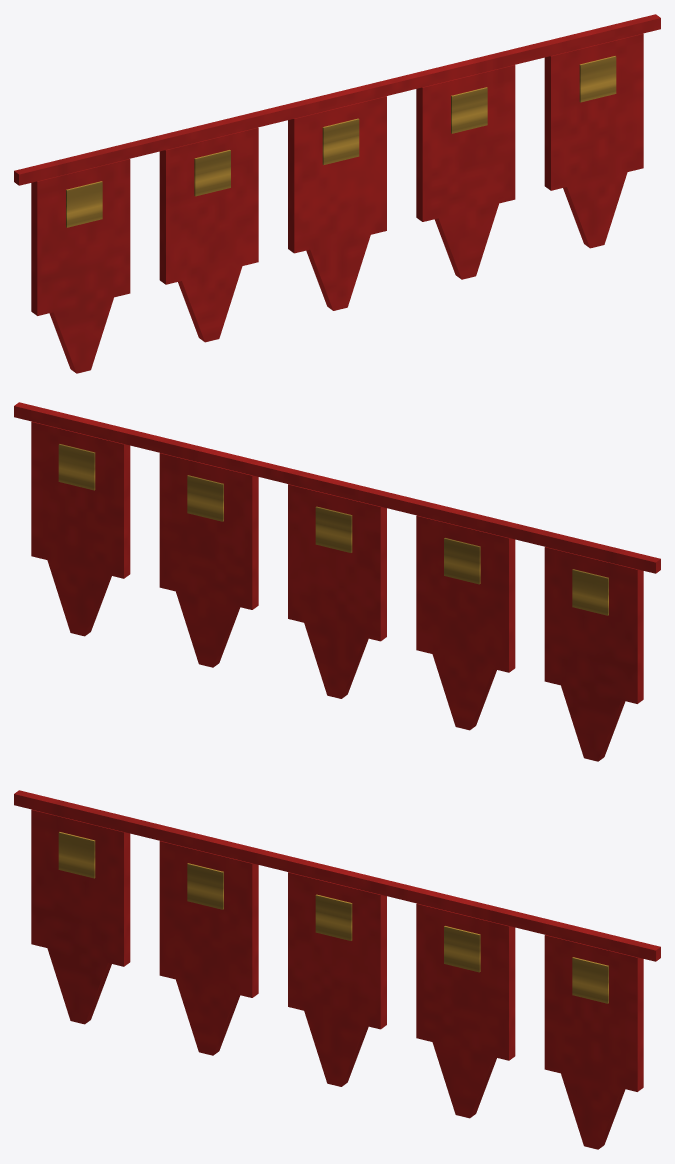
File: door_fringe.fbx
3 views of the same model, one above another, from view 1: azimuth 30°, elevation 25°; view 2: azimuth 150°, elevation 25°; view 3: azimuth 330°, elevation 25° (orthographic).
Visible parts, largest first — view 1: door_fringe; view 2: door_fringe; view 3: door_fringe.
Boxes of the visible parts, box(x1,y1,x2,y2) form: door_fringe: box(14, 14, 660, 373); door_fringe: box(14, 402, 660, 761); door_fringe: box(14, 790, 660, 1149).
Size of the model in its own units: 36 by 11.4 by 0.8.
